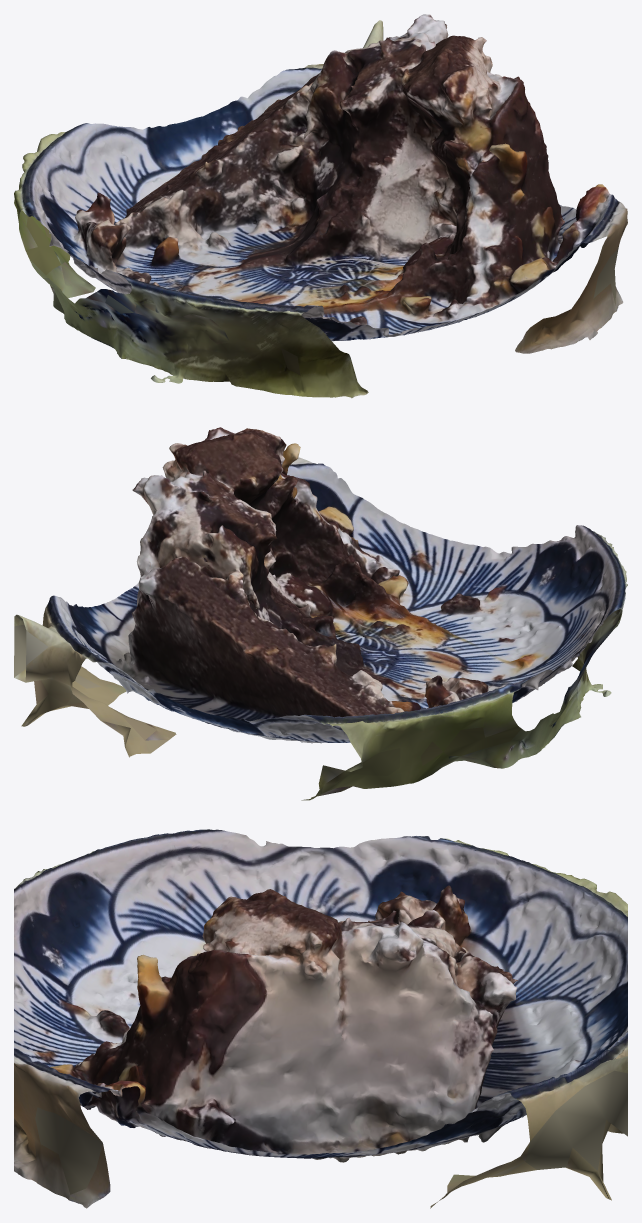
3 views of the same model, one above another, from view 1: azimuth 30°, elevation 25°; view 2: azimuth 150°, elevation 25°; view 3: azimuth 270°, elevation 25° (orthographic). The views are drawn at different scales.
Parts seen in each view (by area): view 1: Mesh_0_Part_0; view 2: Mesh_0_Part_0; view 3: Mesh_0_Part_0.
Boxes of the visible parts, x1=… form: Mesh_0_Part_0: x1=14, y1=14, x2=627, y2=398; Mesh_0_Part_0: x1=14, y1=427, x2=627, y2=800; Mesh_0_Part_0: x1=14, y1=829, x2=627, y2=1208.
Size of the model in its own units: 0.2864 by 0.1318 by 0.2841.
1 material, 1 textured.
